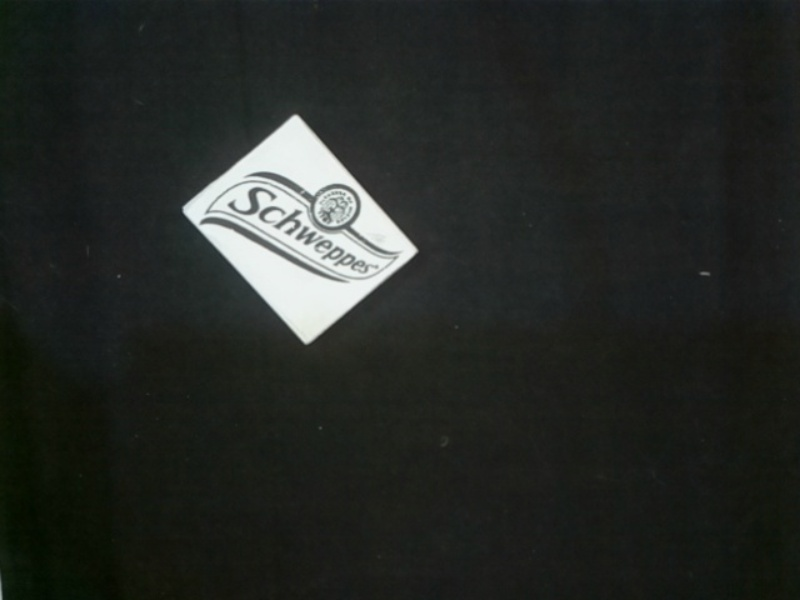schweppes: (181, 110, 421, 345)
